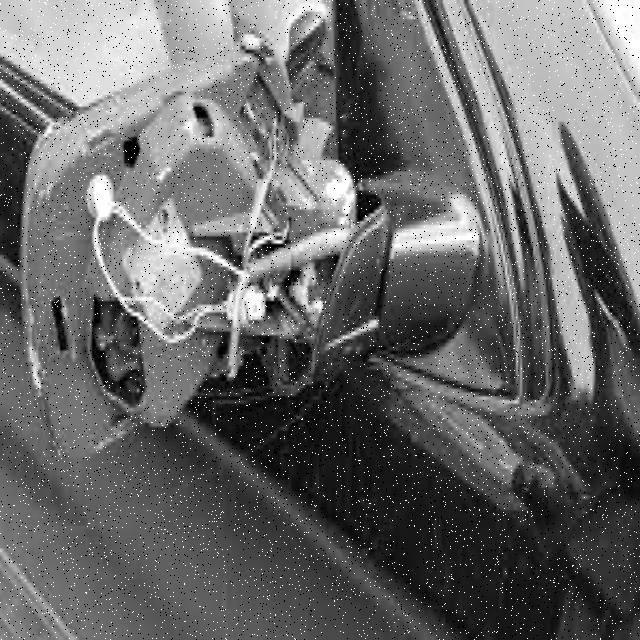Sidemirror-Damage: (25, 30, 393, 464)
